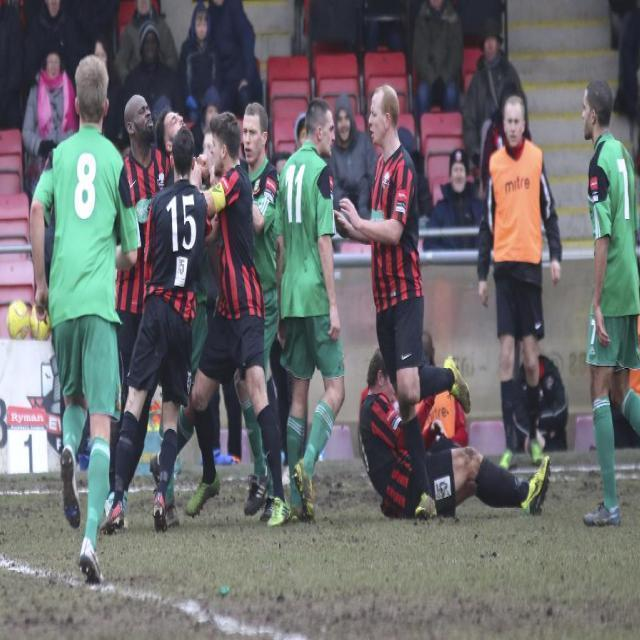ball: (28, 303, 54, 344), (6, 299, 31, 340)
